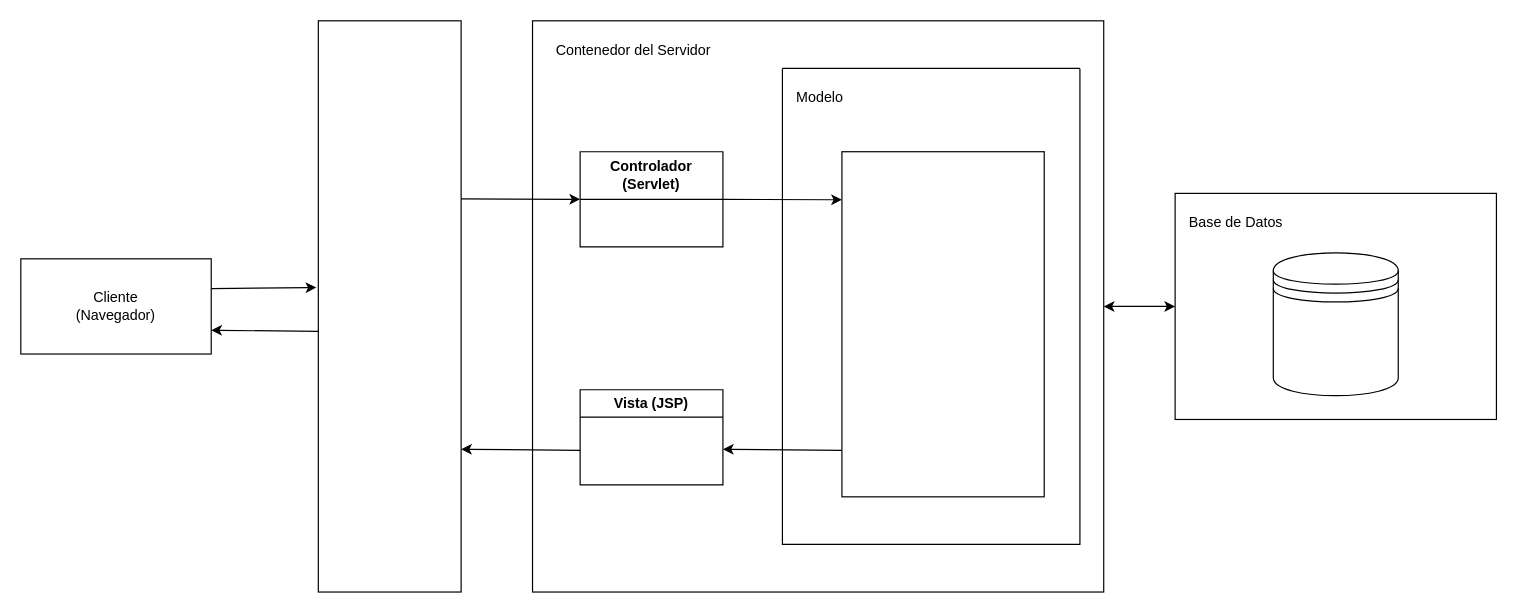
Some shapes in this 1517 by 613 pixel diagram are drawn without their labels. Each missing label, with the box of its shape:
Entidades y Lógica del Negocio: (841, 151, 1044, 497)
Servidor HTTP: (317, 20, 461, 592)
